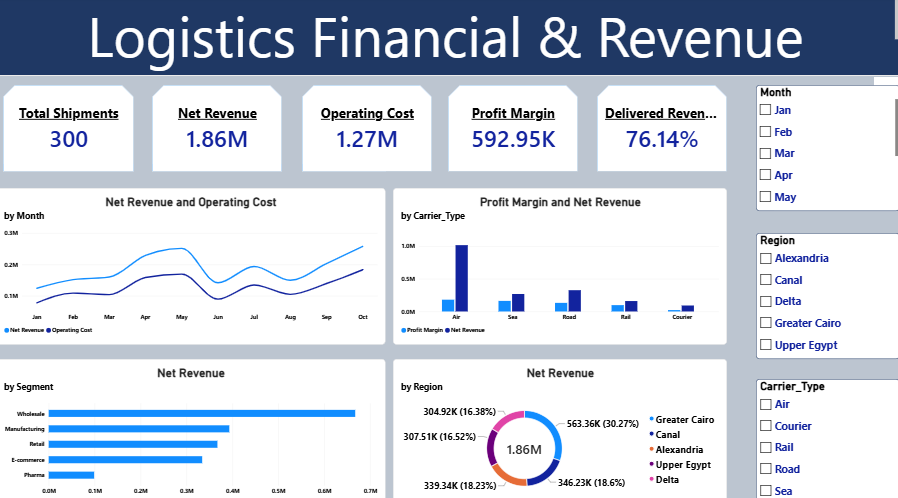

What the dashboard file says about the page in this screenshot:
{"tool":"powerbi","page":{"name":"Financial Overview","canvas":[1920,1080],"ordinal":1},"visuals":[{"type":"shape","box":[0,0,1919.8,168],"z":0},{"type":"textbox","box":[0,0,1919.1,168.1],"z":1000},{"type":"slicer","fields":{"Values":["Calendar.Month"]},"box":[1615,187.5,305,267.5],"z":2000},{"type":"slicer","fields":{"Values":["Carriers.Carrier_Type"]},"box":[1615,812.5,305,267.5],"z":3000},{"type":"slicer","fields":{"Values":["Warehouses.Region"]},"box":[1615,502.5,305,267.5],"z":4000},{"type":"cardVisual","fields":{"Data":["_Measures.Total Shipments"]},"box":[15.2,187,278.5,185],"z":5000},{"type":"cardVisual","fields":{"Data":["_Measures.Net Revenue"]},"box":[332.6,187,276.4,185],"z":6000},{"type":"cardVisual","fields":{"Data":["_Measures.Operating Cost"]},"box":[650,187.5,276.4,185],"z":7000},{"type":"cardVisual","fields":{"Data":["_Measures.Profit Margin"]},"box":[960,187.5,276.4,185],"z":8000},{"type":"cardVisual","fields":{"Data":["_Measures.Delivered Revenue %"]},"box":[1277.5,187.5,276.4,185],"z":9000},{"type":"lineChart","fields":{"Category":["Calendar.Month"],"Y":["_Measures.Net Revenue","_Measures.Operating Cost"]},"box":[0,405,827.5,332.5],"z":10000},{"type":"clusteredColumnChart","fields":{"Category":["Carriers.Carrier_Type"],"Y":["_Measures.Profit Margin","_Measures.Net Revenue"]},"box":[845,405,710,332.5],"z":11000},{"type":"clusteredBarChart","fields":{"Category":["Customers.Segment"],"Y":["_Measures.Net Revenue"]},"box":[0,770,827.5,310],"z":12000},{"type":"donutChart","fields":{"Category":["Warehouses.Region"],"Y":["_Measures.Net Revenue"]},"box":[845,770,710,310],"z":13000}]}

Visuals, with their boxes in screenshot pixels (x1, y1, x2, y2), scaled from the page's 1920x1080 canvas onto the 898x498 screenshot:
shape: [x1=0, y1=0, x2=897, y2=77]
textbox: [x1=0, y1=0, x2=897, y2=78]
slicer - Calendar.Month: [x1=755, y1=86, x2=897, y2=210]
slicer - Carriers.Carrier_Type: [x1=755, y1=375, x2=897, y2=497]
slicer - Warehouses.Region: [x1=755, y1=232, x2=897, y2=355]
cardVisual - _Measures.Total Shipments: [x1=7, y1=86, x2=137, y2=172]
cardVisual - _Measures.Net Revenue: [x1=156, y1=86, x2=285, y2=172]
cardVisual - _Measures.Operating Cost: [x1=304, y1=86, x2=433, y2=172]
cardVisual - _Measures.Profit Margin: [x1=449, y1=86, x2=578, y2=172]
cardVisual - _Measures.Delivered Revenue %: [x1=597, y1=86, x2=727, y2=172]
lineChart - Calendar.Month x _Measures.Net Revenue: [x1=0, y1=187, x2=387, y2=340]
clusteredColumnChart - Carriers.Carrier_Type x _Measures.Profit Margin: [x1=395, y1=187, x2=727, y2=340]
clusteredBarChart - Customers.Segment x _Measures.Net Revenue: [x1=0, y1=355, x2=387, y2=497]
donutChart - Warehouses.Region x _Measures.Net Revenue: [x1=395, y1=355, x2=727, y2=497]
